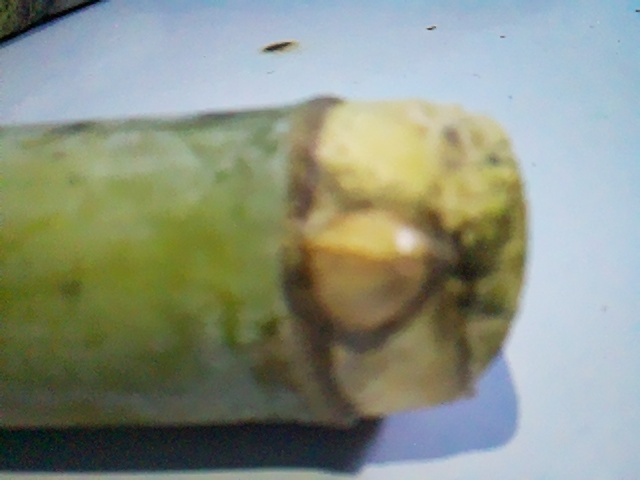Good Sugarcane: (0, 121, 514, 432)
Node: (258, 90, 374, 433)
